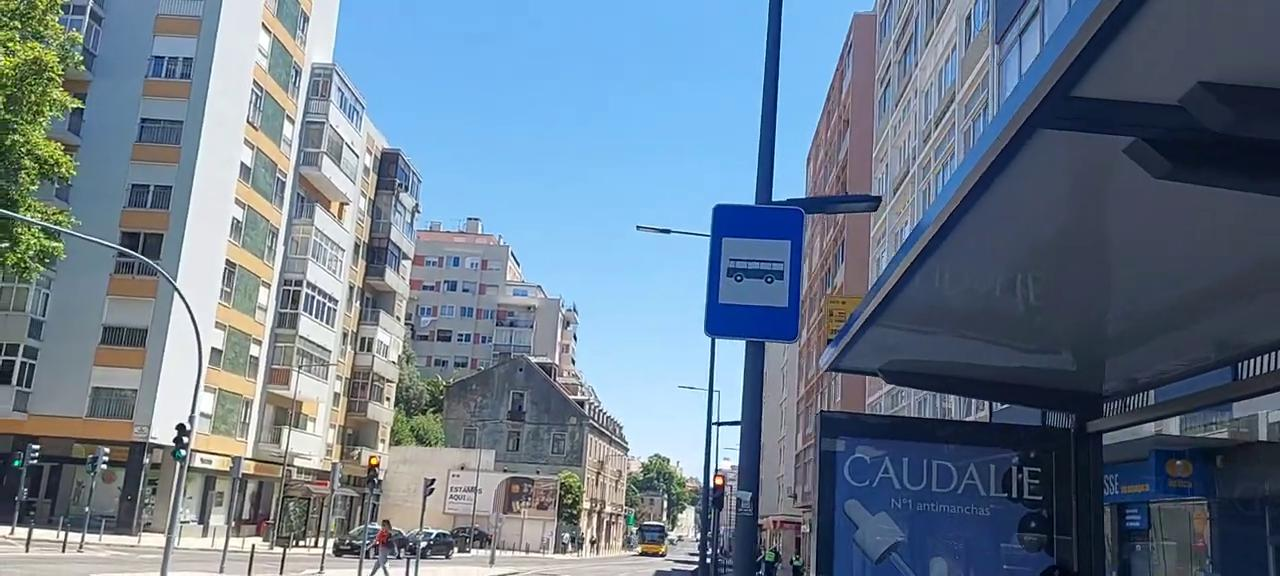paragem de veiculos de transporte colectivo de passageiros: (703, 200, 808, 346)
